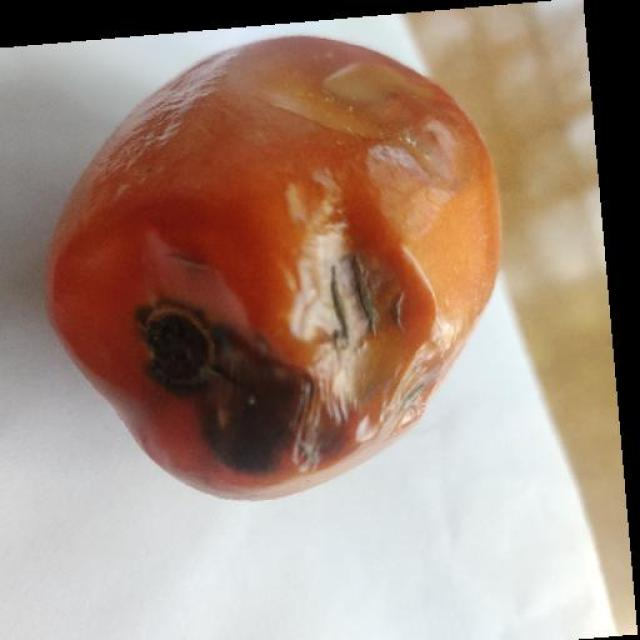Stale_tomato: (60, 41, 482, 466)
